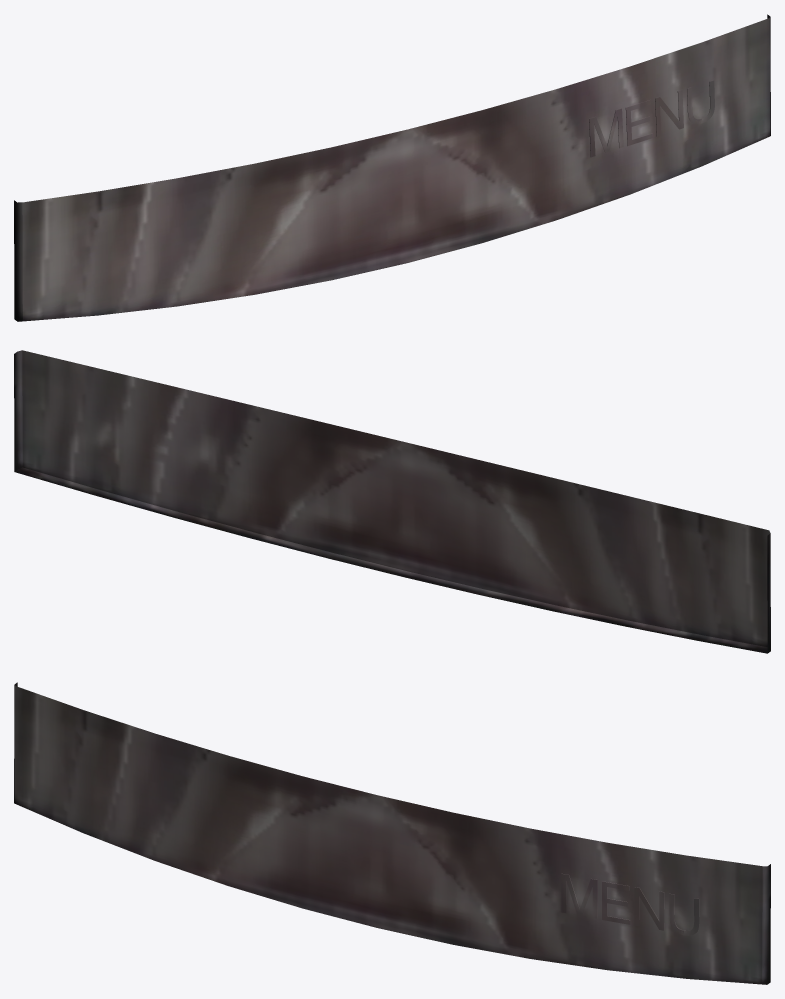
File: link_2__button-5.glb
3 renders of one model, top to bottom at view 1: azimuth 30°, elevation 25°; view 2: azimuth 150°, elevation 25°; view 3: azimuth 330°, elevation 25°, orthographic.
Visible parts, largest first — view 1: world; view 2: world; view 3: world.
Boxes of the visible parts, box(x1,y1,x2,y2) form: world: box(14, 14, 770, 321); world: box(14, 350, 770, 653); world: box(14, 682, 770, 984).
Size of the model in its own units: 0.2586 by 0.0471 by 0.0119.
Materials: 1 (1 with a texture image).
